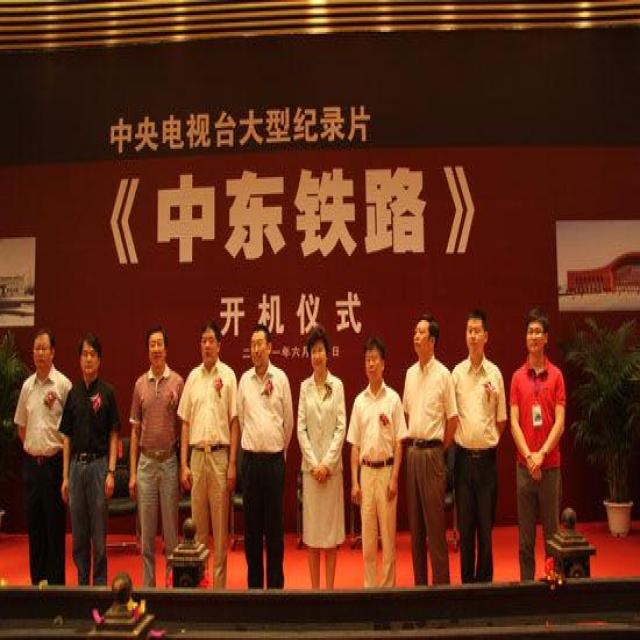non-fight: (230, 320, 294, 604), (445, 307, 506, 595), (125, 324, 186, 612), (506, 312, 567, 588), (13, 324, 72, 600), (347, 337, 404, 597), (180, 328, 235, 596), (295, 328, 348, 602)
